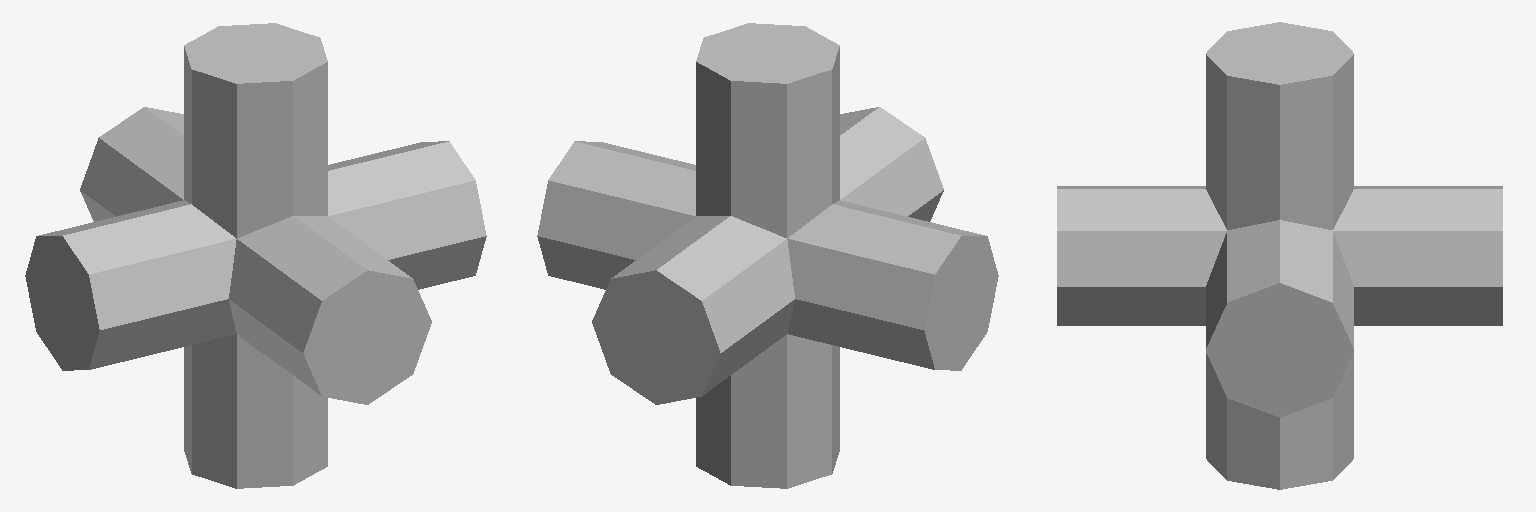
File: crisscross.obj
3 views of the same model, side by side, from view 1: azimuth 30°, elevation 25°; view 2: azimuth 150°, elevation 25°; view 3: azimuth 270°, elevation 25° (orthographic).
Visible parts, largest first — view 1: crisscross.obj; view 2: crisscross.obj; view 3: crisscross.obj.
Part boxes in pixels (x1,y1,x2,y2): crisscross.obj: (25, 23, 486, 488); crisscross.obj: (537, 23, 998, 488); crisscross.obj: (1057, 22, 1502, 489).
Bounding box in the file's own units: 3 × 3 × 3.